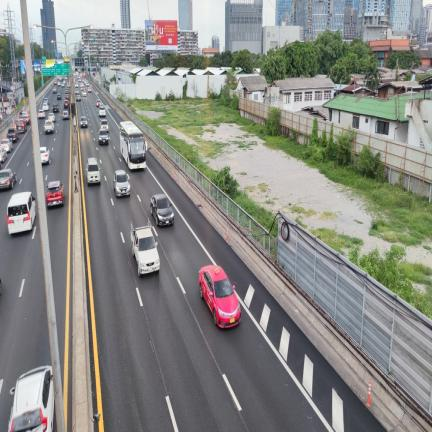bus: (120, 121, 147, 169)
car: (8, 367, 54, 430), (151, 194, 173, 225), (46, 181, 64, 206), (114, 170, 130, 196), (86, 158, 100, 185), (0, 169, 16, 188), (6, 128, 19, 142), (0, 138, 12, 152), (40, 147, 50, 163), (98, 129, 108, 143), (16, 119, 26, 133), (100, 119, 108, 133), (98, 105, 105, 117), (38, 109, 45, 118), (48, 113, 55, 122), (62, 110, 69, 119), (81, 117, 87, 127)
pickup: (130, 220, 159, 277), (44, 119, 54, 134), (52, 103, 59, 112)
taxi: (199, 265, 241, 327)
van: (7, 191, 36, 233)
